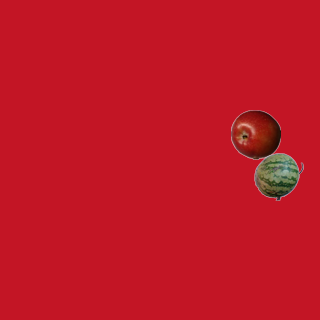Apple Braeburn: (230, 109, 280, 159)
Watermelon: (253, 151, 303, 201)
